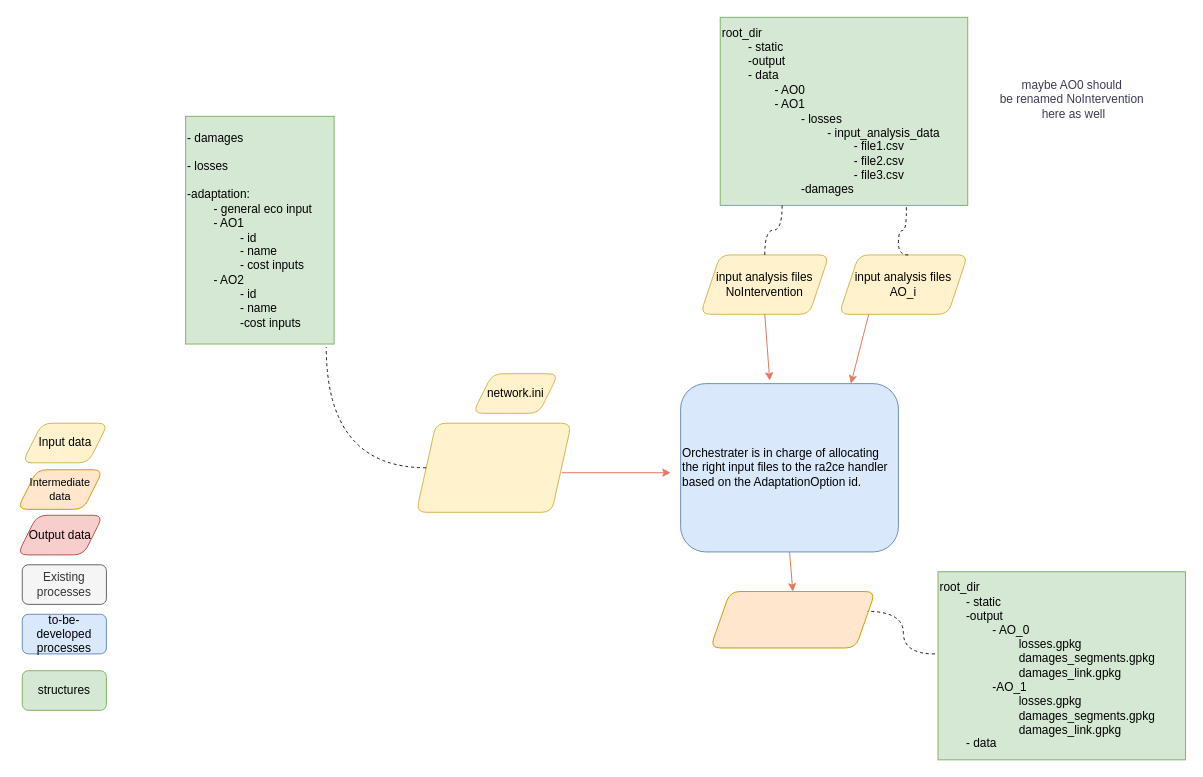
Image size: 1203x777. Some labels were removed from this diagram. Each missing label, with the centre of its shape:
analysis.ini (modified with adpatation section): point 493,467
L&D for noInterventions and all AO: point 792,619
